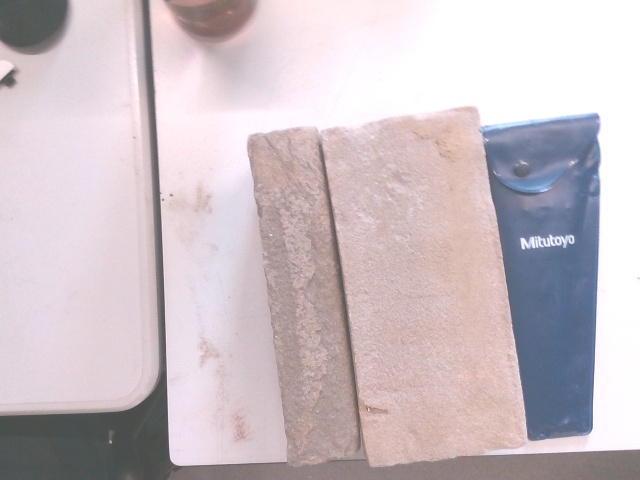brick: (324, 108, 527, 465)
